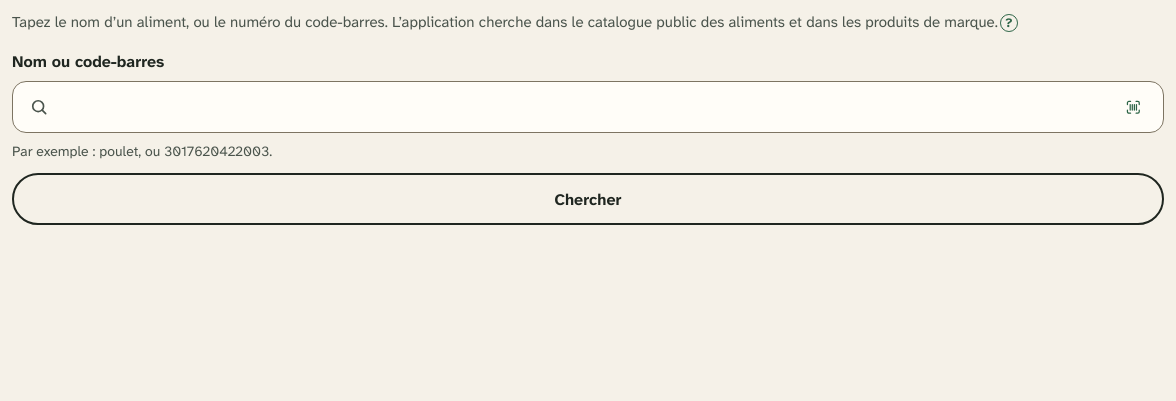
Test: FoodPicker — recherche sans résultat › Open Food Facts a répondu : « aucun aliment trouvé », sans bandeau
Type "skyr" into the search field labelled "Nom ou code-barres" at (580, 107), box [57,82,1103,132]
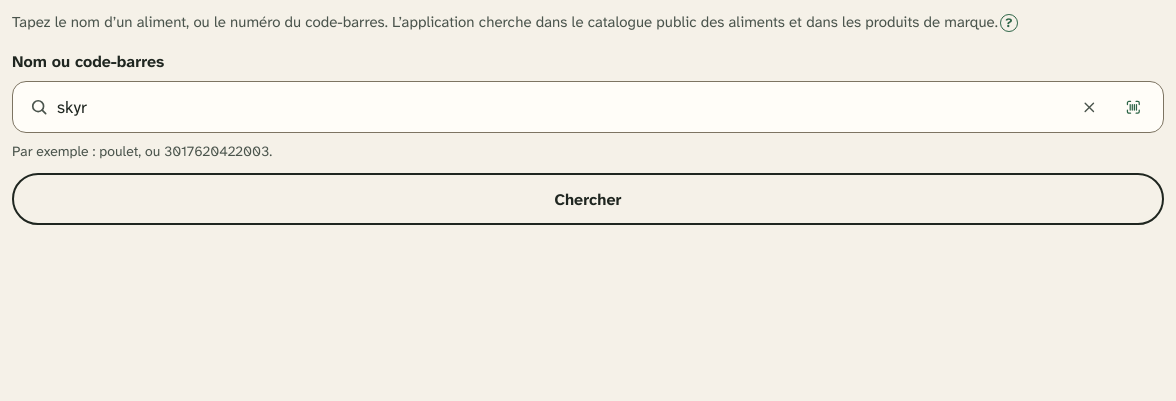
Submit the form, box [12,50,1164,225]
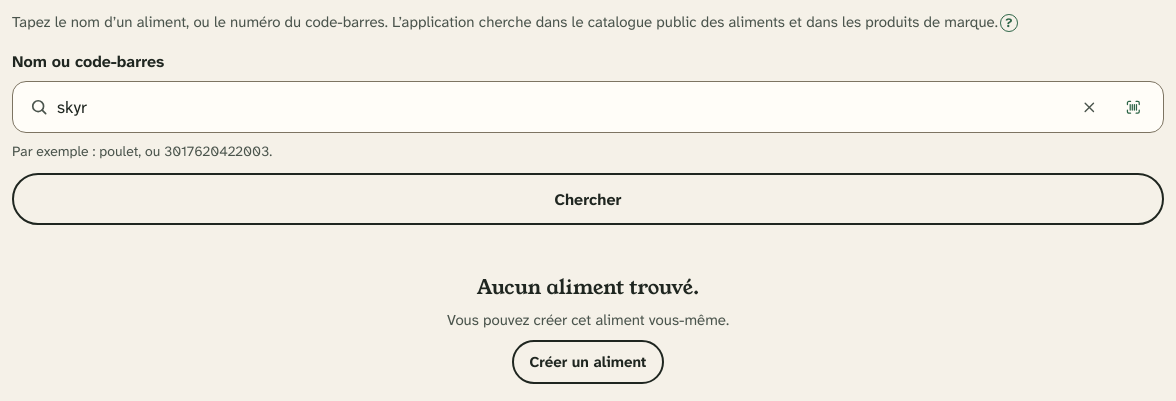
Expected: the text "Aucun aliment trouvé." is shown, [477,273,699,302]
